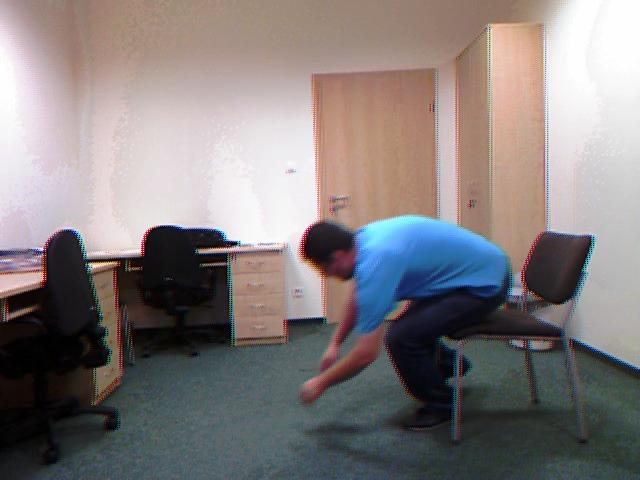near-fall: (301, 215, 510, 430)
